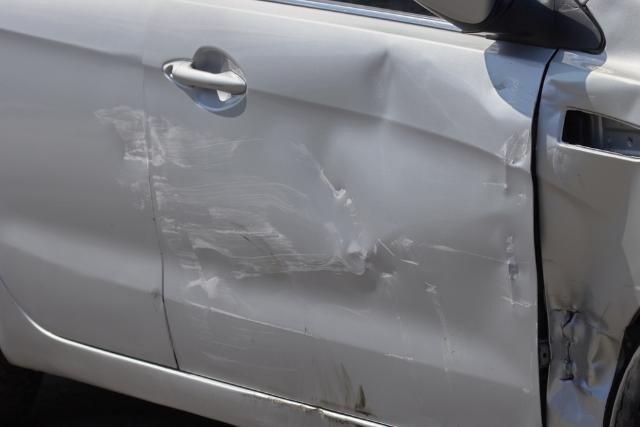Door: (88, 50, 532, 427)
Fender: (541, 58, 640, 427)
